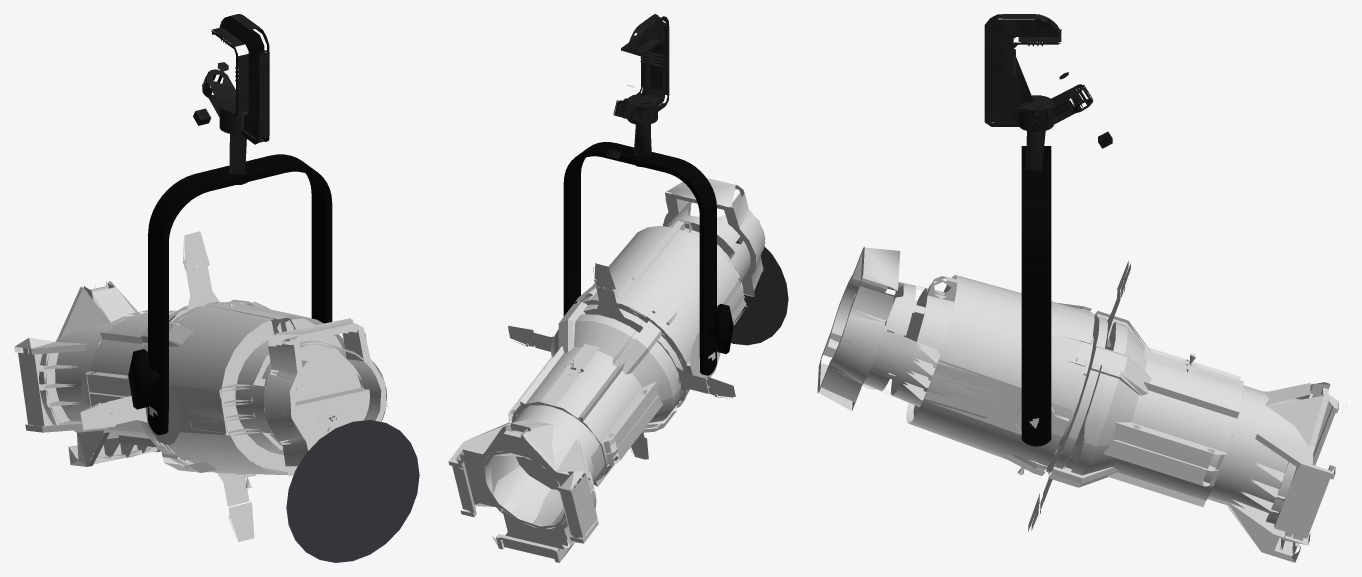
File: source-four.glb
The picture shows the model from 3 angles, left to right: view 1: azimuth 30°, elevation 25°; view 2: azimuth 150°, elevation 25°; view 3: azimuth 270°, elevation 25°; orthographic projection. The views are drawn at different scales.
Parts seen in each view (by area): view 1: head, lens, yoke, base; view 2: head, yoke, base, lens; view 3: head, yoke, base.
Part boxes in pixels (x1=…): head: x1=14, y1=231, x2=388, y2=541; lens: x1=286, y1=420, x2=419, y2=562; yoke: x1=128, y1=154, x2=332, y2=435; base: x1=193, y1=14, x2=269, y2=184; head: x1=448, y1=178, x2=765, y2=562; yoke: x1=563, y1=142, x2=733, y2=375; base: x1=606, y1=14, x2=669, y2=167; lens: x1=731, y1=240, x2=788, y2=345; head: x1=817, y1=247, x2=1343, y2=562; yoke: x1=1021, y1=146, x2=1051, y2=446; base: x1=984, y1=14, x2=1112, y2=171.
Size of the model in its own units: 0.328 by 0.6194 by 0.5644.
4 materials, 1 textured.
